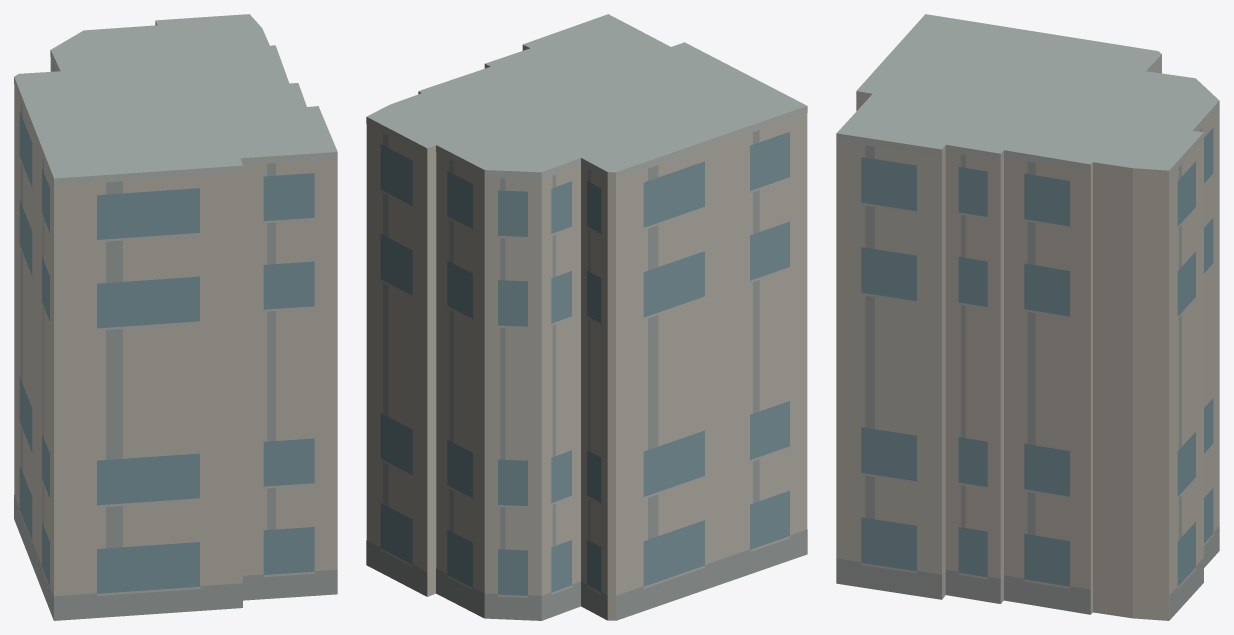
The model's file is survey-upis-32532039.glb.
3 views of the same model, side by side, from view 1: azimuth 30°, elevation 25°; view 2: azimuth 150°, elevation 25°; view 3: azimuth 270°, elevation 25° (orthographic).
Parts seen in each view (by area): view 1: survey-upis-32532039.tmp; view 2: survey-upis-32532039.tmp; view 3: survey-upis-32532039.tmp.
Part boxes in pixels (<box>): survey-upis-32532039.tmp: <box>14,14,337,620</box>; survey-upis-32532039.tmp: <box>366,14,807,620</box>; survey-upis-32532039.tmp: <box>836,14,1219,620</box>.
Bounding box in the file's own units: 11.01 × 14.75 × 11.38.
